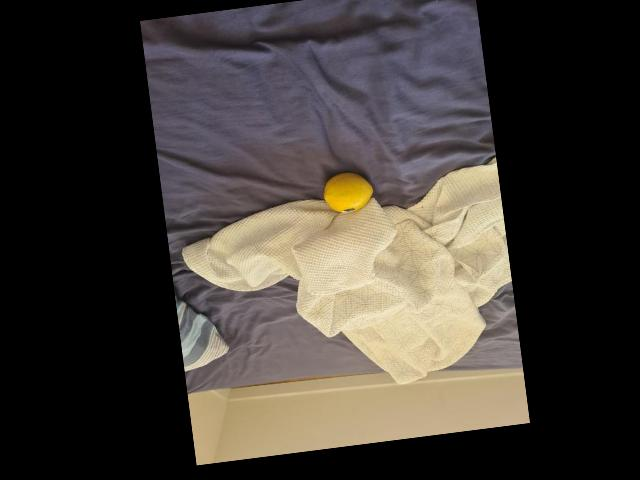lemon: (319, 170, 376, 214)
